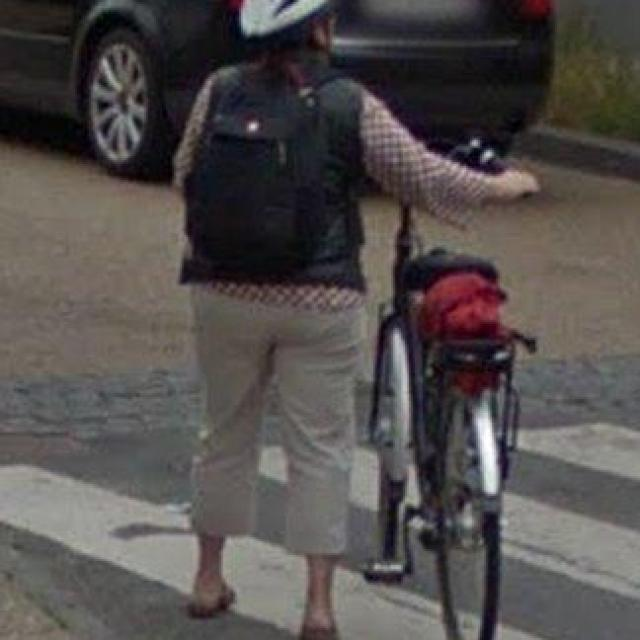bicycle: (296, 86, 574, 634)
